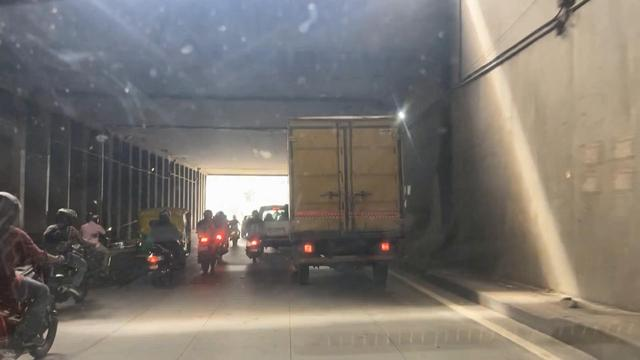HMV: (286, 118, 409, 297)
LMV: (149, 209, 183, 283), (199, 196, 218, 273), (243, 210, 265, 261)
